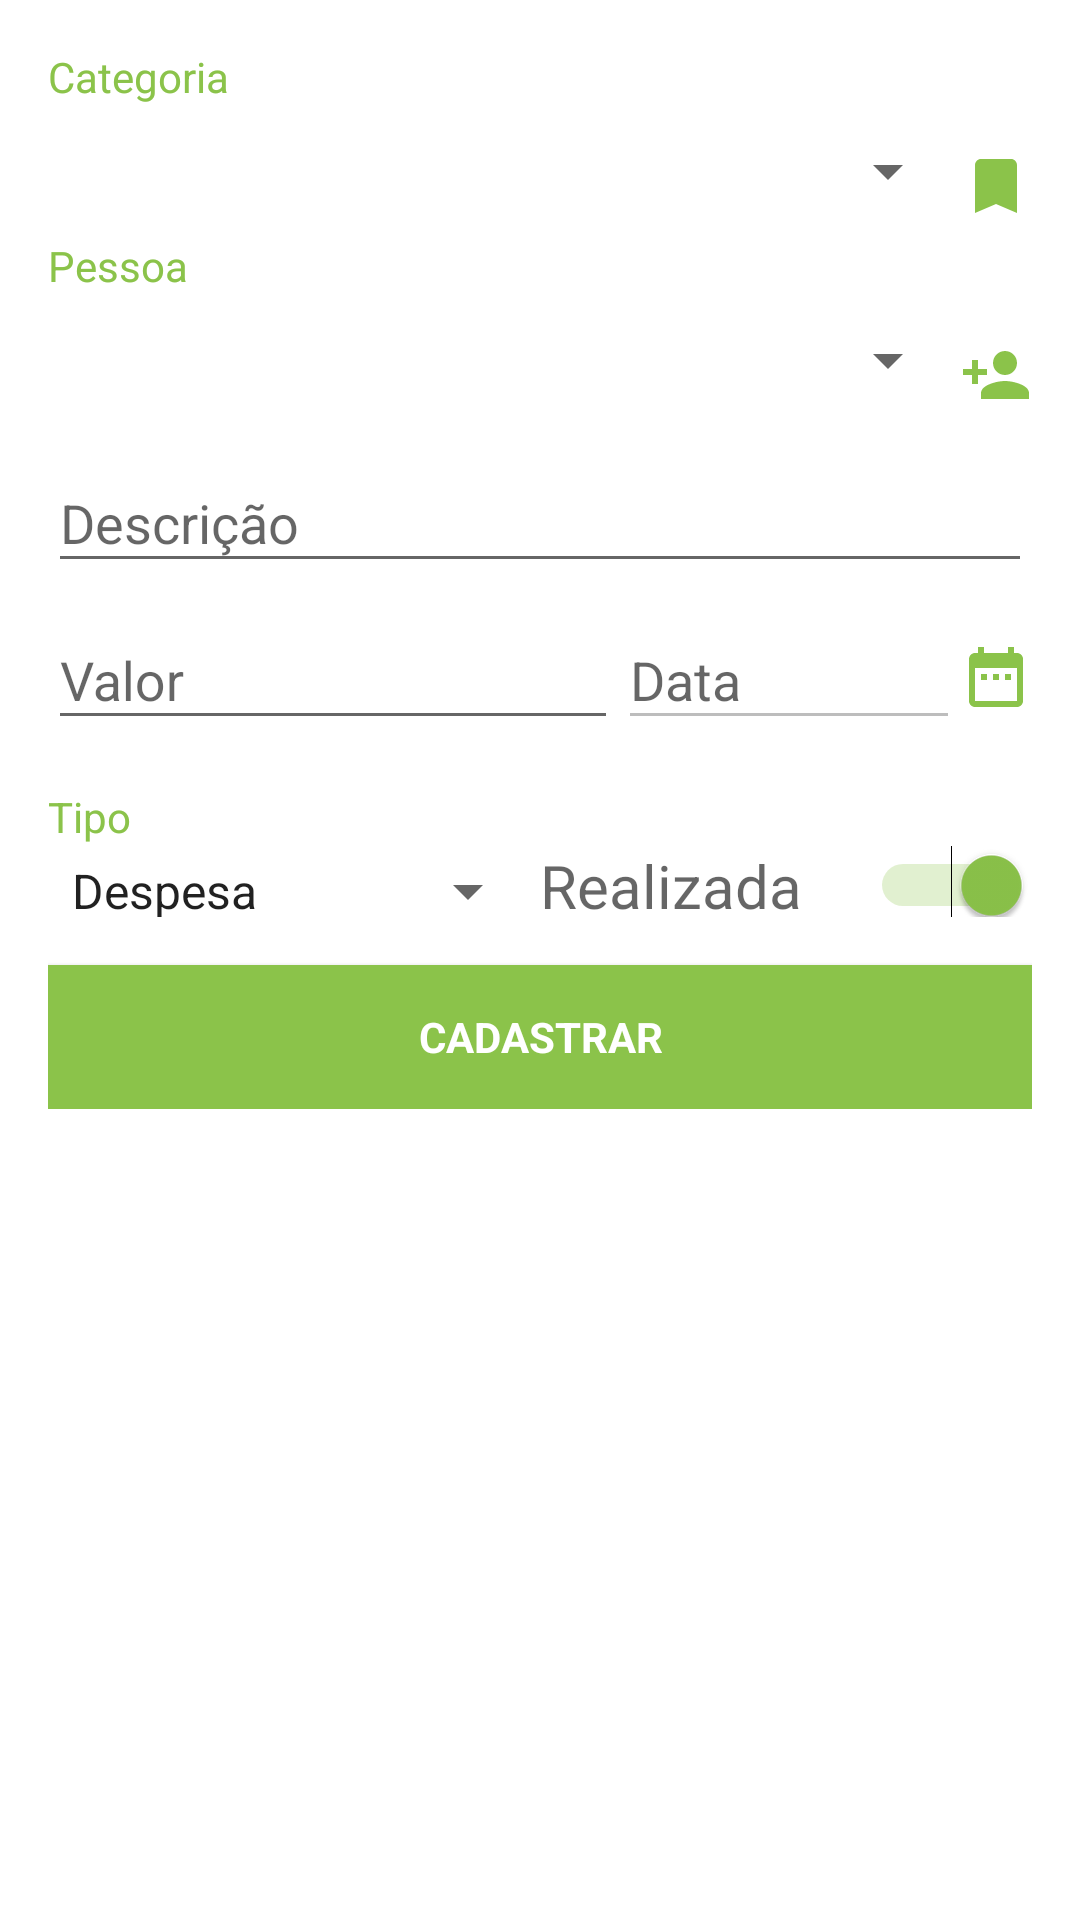

Icon click points for this 1080 x 1920 phone screenshot, format (x=x, y=y):
calendario: (x=996, y=677)
